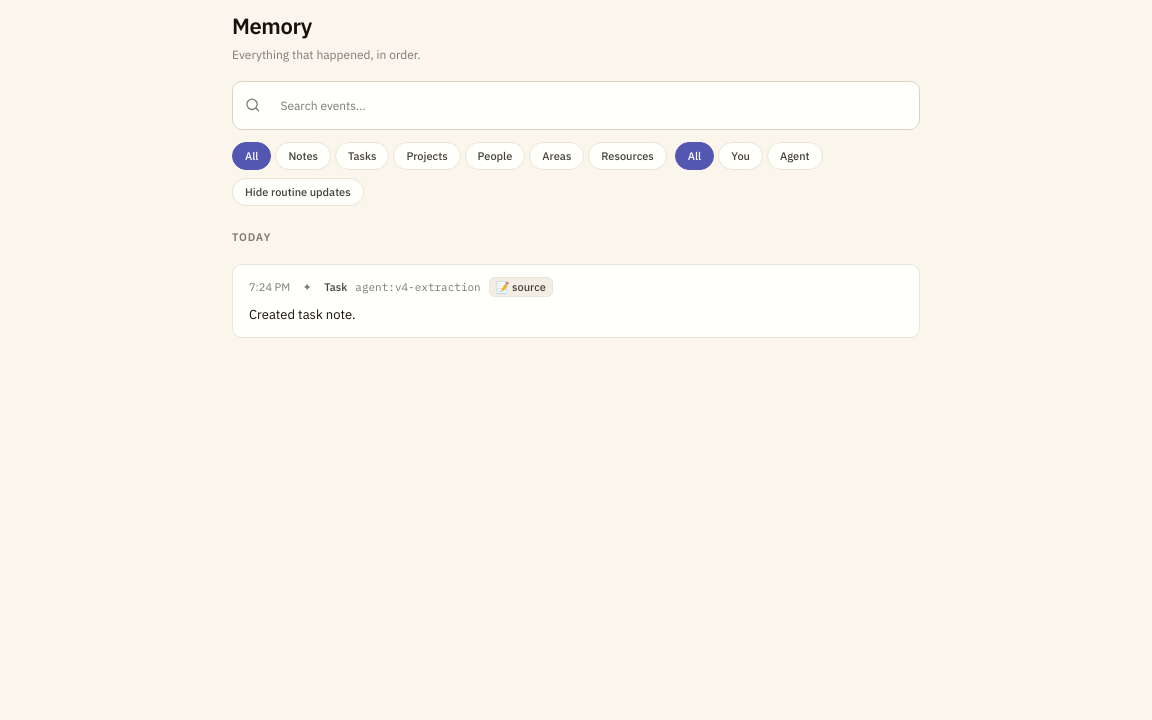
Test: V5Memory › renders a clickable citation link when an event has a source note
Click the button with aria-label "Open source note".
click(521, 287)  # box [489,277,553,297]
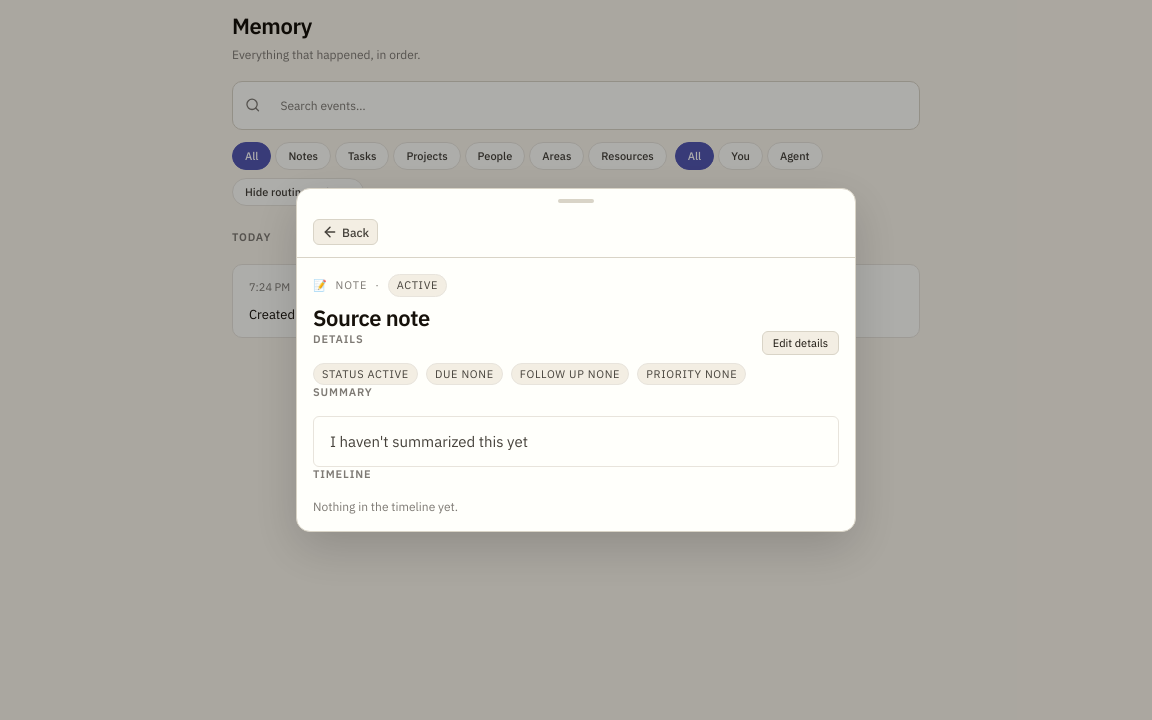
Now the dialog named "Citation" is shown, box [296,188,856,532]
